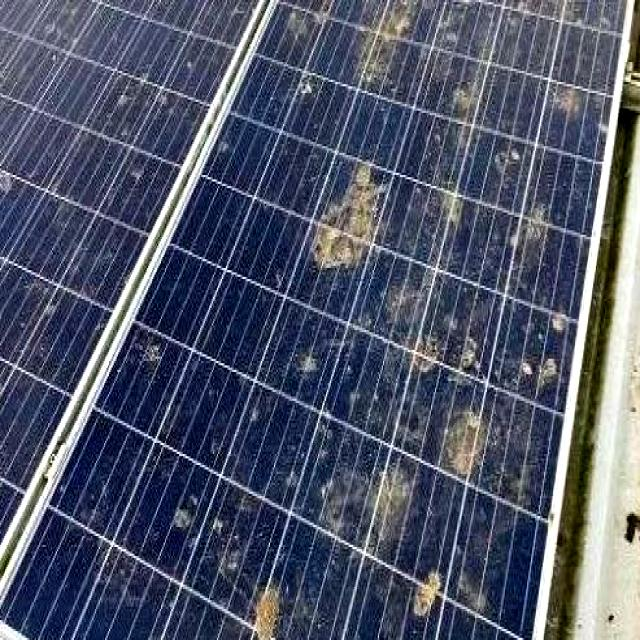bird: (306, 142, 383, 296), (324, 448, 410, 522), (528, 278, 569, 412), (450, 377, 491, 495), (370, 0, 410, 88), (409, 564, 461, 628), (506, 198, 568, 249), (250, 571, 286, 640), (442, 182, 472, 240), (558, 82, 600, 123), (414, 337, 442, 388), (451, 94, 484, 128)
